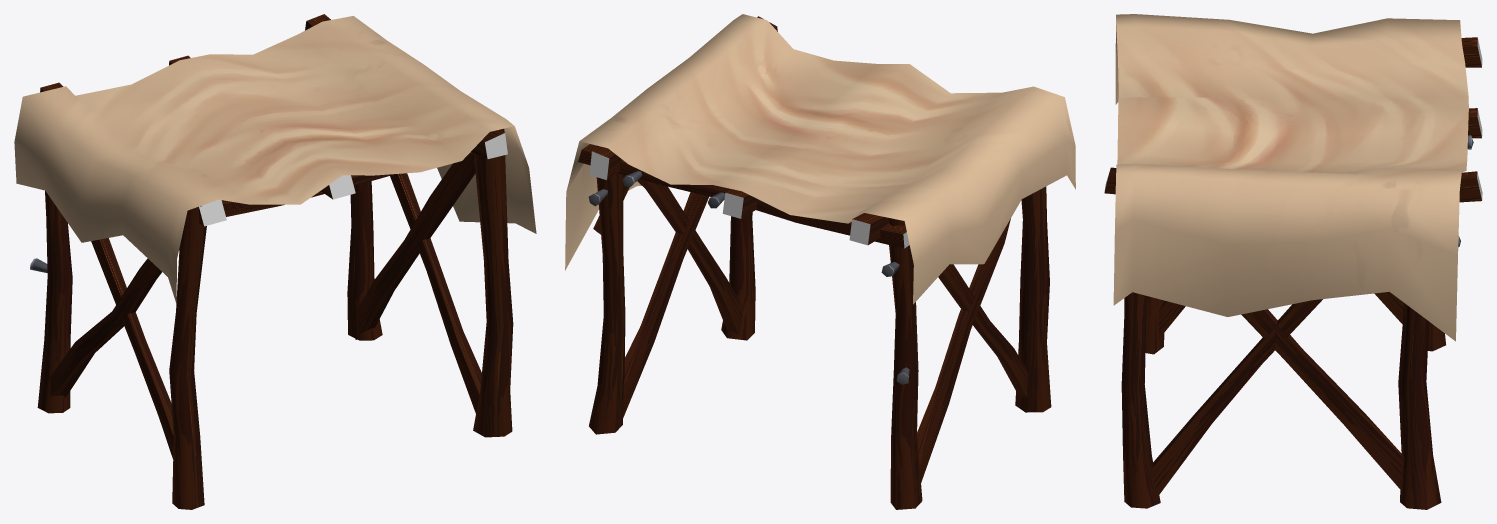
The model's file is SM_PROP_market_v01_01.fbx.
3 renders of one model, left to right at view 1: azimuth 30°, elevation 25°; view 2: azimuth 150°, elevation 25°; view 3: azimuth 270°, elevation 25°, orthographic. The views are drawn at different scales.
Visible parts, largest first — view 1: SM_PROP_market_v01_01; view 2: SM_PROP_market_v01_01; view 3: SM_PROP_market_v01_01.
Part boxes in pixels (<box>): SM_PROP_market_v01_01: <box>14,14,536,509</box>; SM_PROP_market_v01_01: <box>565,14,1075,509</box>; SM_PROP_market_v01_01: <box>1104,14,1482,509</box>.
Size of the model in its own units: 421 by 350 by 362.
